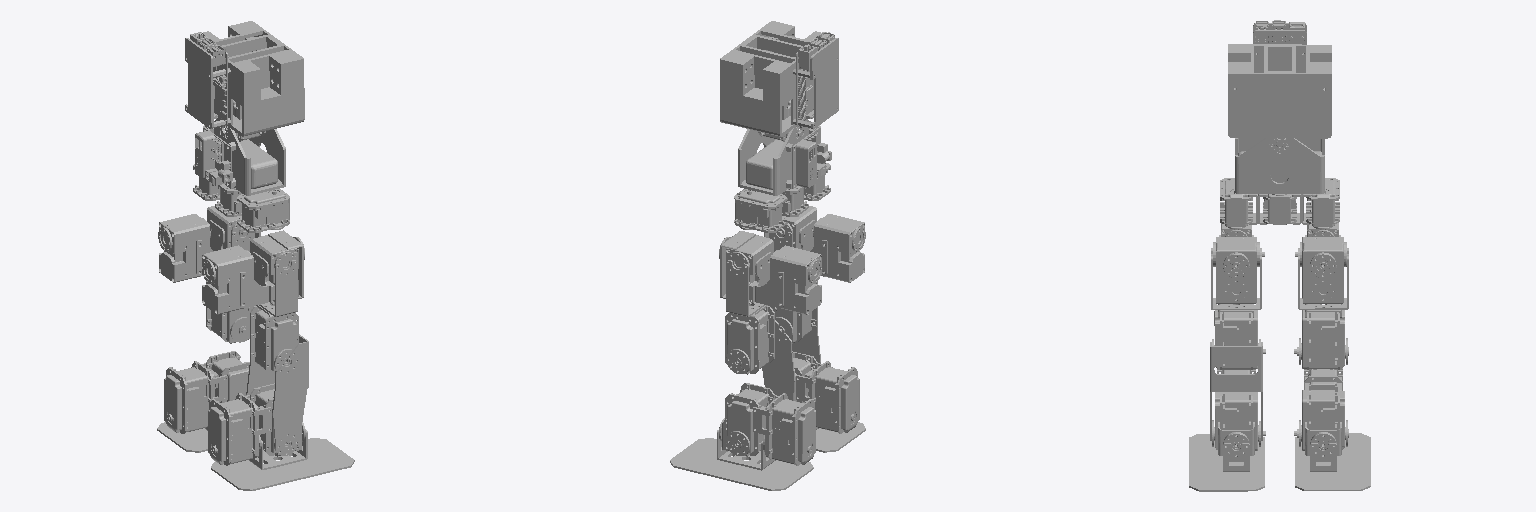
The robot description file, URDF, robot "rosaya":
<?xml version="1.0" encoding="utf-8"?>
<!-- This URDF was automatically created by SolidWorks to URDF Exporter! Originally created by [author] ([email redacted]) 
     Commit Version: 1.6.0-4-g7f85cfe  Build Version: 1.6.7995.38578
     For more information, please see http://wiki.ros.org/sw_urdf_exporter -->
<robot
  name="rosaya">
  <link
    name="Link1">
    <inertial>
      <origin
        xyz="-0.014045 -0.00010244 0.42421"
        rpy="0 0 0" />
      <mass
        value="0.26448" />
      <inertia
        ixx="0.00037715"
        ixy="2.5995E-08"
        ixz="8.269E-06"
        iyy="0.00020603"
        iyz="1.6005E-07"
        izz="0.0003378" />
    </inertial>
    <visual>
      <origin
        xyz="0 0 0"
        rpy="0 0 0" />
      <geometry>
        <mesh
          filename="package://rosaya/meshes/Link1.STL" />
      </geometry>
      <material
        name="">
        <color
          rgba="0.75294 0.75294 0.75294 1" />
      </material>
    </visual>
    <collision>
      <origin
        xyz="0 0 0"
        rpy="0 0 0" />
      <geometry>
        <mesh
          filename="package://rosaya/meshes/Link1.STL" />
      </geometry>
    </collision>
  </link>
  <link
    name="Link2">
    <inertial>
      <origin
        xyz="-0.027516 0.00022504 -0.039853"
        rpy="0 0 0" />
      <mass
        value="0.26676" />
      <inertia
        ixx="0.00020194"
        ixy="-2.026E-07"
        ixz="-2.9245E-07"
        iyy="6.9731E-05"
        iyz="-6.7072E-07"
        izz="0.00020891" />
    </inertial>
    <visual>
      <origin
        xyz="0 0 0"
        rpy="0 0 0" />
      <geometry>
        <mesh
          filename="package://rosaya/meshes/Link2.STL" />
      </geometry>
      <material
        name="">
        <color
          rgba="0.75294 0.75294 0.75294 1" />
      </material>
    </visual>
    <collision>
      <origin
        xyz="0 0 0"
        rpy="0 0 0" />
      <geometry>
        <mesh
          filename="package://rosaya/meshes/Link2.STL" />
      </geometry>
    </collision>
  </link>
  <joint
    name="Joint1"
    type="continuous">
    <origin
      xyz="0.0150416145062784 -0.000145225937100715 0.375282029235617"
      rpy="-0.00310746977134566 0 0" />
    <parent
      link="Link1" />
    <child
      link="Link2" />
    <axis
      xyz="1 0 0" />
  </joint>
  <link
    name="Link3">
    <inertial>
      <origin
        xyz="-0.010804 2.1661E-06 -0.024632"
        rpy="0 0 0" />
      <mass
        value="0.14146" />
      <inertia
        ixx="2.3963E-05"
        ixy="2.9004E-09"
        ixz="1.8274E-07"
        iyy="3.8433E-05"
        iyz="-3.819E-11"
        izz="3.167E-05" />
    </inertial>
    <visual>
      <origin
        xyz="0 0 0"
        rpy="0 0 0" />
      <geometry>
        <mesh
          filename="package://rosaya/meshes/Link3.STL" />
      </geometry>
      <material
        name="">
        <color
          rgba="0.75294 0.75294 0.75294 1" />
      </material>
    </visual>
    <collision>
      <origin
        xyz="0 0 0"
        rpy="0 0 0" />
      <geometry>
        <mesh
          filename="package://rosaya/meshes/Link3.STL" />
      </geometry>
    </collision>
  </link>
  <joint
    name="Joint2"
    type="continuous">
    <origin
      xyz="-0.0150417125919951 0.000171249925764887 -0.0551096819554042"
      rpy="0.00310746977134566 0 0" />
    <parent
      link="Link2" />
    <child
      link="Link3" />
    <axis
      xyz="0 0 1" />
  </joint>
  <link
    name="L_Link">
    <inertial>
      <origin
        xyz="2.5032E-07 7.443E-08 -0.0094973"
        rpy="0 0 0" />
      <mass
        value="0.0062048" />
      <inertia
        ixx="1.1671E-06"
        ixy="2.2413E-14"
        ixz="-1.3175E-11"
        iyy="4.7062E-06"
        iyz="-3.9175E-12"
        izz="4.3674E-06" />
    </inertial>
    <visual>
      <origin
        xyz="0 0 0"
        rpy="0 0 0" />
      <geometry>
        <mesh
          filename="package://rosaya/meshes/L_Link.STL" />
      </geometry>
      <material
        name="">
        <color
          rgba="0.75294 0.75294 0.75294 1" />
      </material>
    </visual>
    <collision>
      <origin
        xyz="0 0 0"
        rpy="0 0 0" />
      <geometry>
        <mesh
          filename="package://rosaya/meshes/L_Link.STL" />
      </geometry>
    </collision>
  </link>
  <joint
    name="Joint3"
    type="continuous">
    <origin
      xyz="0 0.045659264836335 -0.0460755308216049"
      rpy="0 0 -0.000200463315012628" />
    <parent
      link="Link3" />
    <child
      link="L_Link" />
    <axis
      xyz="0 0 1" />
  </joint>
  <link
    name="L_Link1">
    <inertial>
      <origin
        xyz="0.00657352061231821 -0.000309348250411443 -0.0151747345156473"
        rpy="0 0 0" />
      <mass
        value="0.186396401372013" />
      <inertia
        ixx="7.83299289692851E-05"
        ixy="3.05121818869238E-12"
        ixz="-1.9591696072584E-07"
        iyy="7.66988314756653E-05"
        iyz="1.61633318765245E-07"
        izz="4.72447757065841E-05" />
    </inertial>
    <visual>
      <origin
        xyz="0 0 0"
        rpy="0 0 0" />
      <geometry>
        <mesh
          filename="package://rosaya/meshes/L_Link1.STL" />
      </geometry>
      <material
        name="">
        <color
          rgba="0.752941176470588 0.752941176470588 0.752941176470588 1" />
      </material>
    </visual>
    <collision>
      <origin
        xyz="0 0 0"
        rpy="0 0 0" />
      <geometry>
        <mesh
          filename="package://rosaya/meshes/L_Link1.STL" />
      </geometry>
    </collision>
  </link>
  <joint
    name="Joint5"
    type="continuous">
    <origin
      xyz="-0.0317500000000014 0 -0.0339141545469447"
      rpy="0.000537539761406673 0 0" />
    <parent
      link="L_Link" />
    <child
      link="L_Link1" />
    <axis
      xyz="1 0 0" />
  </joint>
  <link
    name="L_Link2">
    <inertial>
      <origin
        xyz="-0.00048595 0.024579 -0.091308"
        rpy="0 0 0" />
      <mass
        value="0.099079" />
      <inertia
        ixx="4.9382E-05"
        ixy="-2.9464E-09"
        ixz="-1.1213E-07"
        iyy="3.6564E-05"
        iyz="-1.0628E-06"
        izz="2.8912E-05" />
    </inertial>
    <visual>
      <origin
        xyz="0 0 0"
        rpy="0 0 0" />
      <geometry>
        <mesh
          filename="package://rosaya/meshes/L_Link2.STL" />
      </geometry>
      <material
        name="">
        <color
          rgba="0.75294 0.75294 0.75294 1" />
      </material>
    </visual>
    <collision>
      <origin
        xyz="0 0 0"
        rpy="0 0 0" />
      <geometry>
        <mesh
          filename="package://rosaya/meshes/L_Link2.STL" />
      </geometry>
    </collision>
  </link>
  <joint
    name="Joint7"
    type="continuous">
    <origin
      xyz="0.0317200000000001 -0.0244999999999996 0"
      rpy="0 0 0" />
    <parent
      link="L_Link1" />
    <child
      link="L_Link2" />
    <axis
      xyz="0 1 0" />
  </joint>
  <link
    name="L_Link3">
    <inertial>
      <origin
        xyz="0.00932898247433369 0.026035398000001 -0.0336820846788216"
        rpy="0 0 0" />
      <mass
        value="0.0193582268613659" />
      <inertia
        ixx="3.00375991900623E-05"
        ixy="1.78199519362299E-20"
        ixz="-4.16144772485329E-06"
        iyy="2.14370365193727E-05"
        iyz="1.96376094083954E-19"
        izz="1.54337749522801E-05" />
    </inertial>
    <visual>
      <origin
        xyz="0 0 0"
        rpy="0 0 0" />
      <geometry>
        <mesh
          filename="package://rosaya/meshes/L_Link3.STL" />
      </geometry>
      <material
        name="">
        <color
          rgba="0.752941176470588 0.752941176470588 0.752941176470588 1" />
      </material>
    </visual>
    <collision>
      <origin
        xyz="0 0 0"
        rpy="0 0 0" />
      <geometry>
        <mesh
          filename="package://rosaya/meshes/L_Link3.STL" />
      </geometry>
    </collision>
  </link>
  <joint
    name="Joint9"
    type="continuous">
    <origin
      xyz="-0.000558037765886032 -0.00140000000000197 -0.112828252884564"
      rpy="0 -0.000303003582677282 0" />
    <parent
      link="L_Link2" />
    <child
      link="L_Link3" />
    <axis
      xyz="0 1 0" />
  </joint>
  <link
    name="L_Link4">
    <inertial>
      <origin
        xyz="-0.022933 0.025987 0.015294"
        rpy="0 0 0" />
      <mass
        value="0.18164" />
      <inertia
        ixx="7.5271E-05"
        ixy="9.7469E-14"
        ixz="1.0704E-06"
        iyy="7.4761E-05"
        iyz="-1.0645E-06"
        izz="4.691E-05" />
    </inertial>
    <visual>
      <origin
        xyz="0 0 0"
        rpy="0 0 0" />
      <geometry>
        <mesh
          filename="package://rosaya/meshes/L_Link4.STL" />
      </geometry>
      <material
        name="">
        <color
          rgba="0.75294 0.75294 0.75294 1" />
      </material>
    </visual>
    <collision>
      <origin
        xyz="0 0 0"
        rpy="0 0 0" />
      <geometry>
        <mesh
          filename="package://rosaya/meshes/L_Link4.STL" />
      </geometry>
    </collision>
  </link>
  <joint
    name="Joint11"
    type="continuous">
    <origin
      xyz="0 0 -0.0949999999999996"
      rpy="0 0.000302748335169453 0" />
    <parent
      link="L_Link3" />
    <child
      link="L_Link4" />
    <axis
      xyz="0 1 0" />
  </joint>
  <link
    name="L_Link5">
    <inertial>
      <origin
        xyz="0.02791 0.0078481 -0.029268"
        rpy="0 0 0" />
      <mass
        value="0.072891" />
      <inertia
        ixx="3.332E-05"
        ixy="-2.7125E-14"
        ixz="8.0736E-16"
        iyy="0.00010263"
        iyz="1.6495E-12"
        izz="0.00013288" />
    </inertial>
    <visual>
      <origin
        xyz="0 0 0"
        rpy="0 0 0" />
      <geometry>
        <mesh
          filename="package://rosaya/meshes/L_Link5.STL" />
      </geometry>
      <material
        name="">
        <color
          rgba="0.75294 0.75294 0.75294 1" />
      </material>
    </visual>
    <collision>
      <origin
        xyz="0 0 0"
        rpy="0 0 0" />
      <geometry>
        <mesh
          filename="package://rosaya/meshes/L_Link5.STL" />
      </geometry>
    </collision>
  </link>
  <joint
    name="Joint13"
    type="continuous">
    <origin
      xyz="-0.0236 0.026 0"
      rpy="0 0 0" />
    <parent
      link="L_Link4" />
    <child
      link="L_Link5" />
    <axis
      xyz="1 0 0" />
  </joint>
  <link
    name="R_Link">
    <inertial>
      <origin
        xyz="2.5032E-07 7.443E-08 -0.0094973"
        rpy="0 0 0" />
      <mass
        value="0.0062048" />
      <inertia
        ixx="1.1671E-06"
        ixy="2.2413E-14"
        ixz="-1.3175E-11"
        iyy="4.7062E-06"
        iyz="-3.9175E-12"
        izz="4.3674E-06" />
    </inertial>
    <visual>
      <origin
        xyz="0 0 0"
        rpy="0 0 0" />
      <geometry>
        <mesh
          filename="package://rosaya/meshes/R_Link.STL" />
      </geometry>
      <material
        name="">
        <color
          rgba="0.75294 0.75294 0.75294 1" />
      </material>
    </visual>
    <collision>
      <origin
        xyz="0 0 0"
        rpy="0 0 0" />
      <geometry>
        <mesh
          filename="package://rosaya/meshes/R_Link.STL" />
      </geometry>
    </collision>
  </link>
  <joint
    name="Joint4"
    type="continuous">
    <origin
      xyz="0 -0.0456592648363355 -0.0460755308216101"
      rpy="0 0 -0.000200463315012628" />
    <parent
      link="Link3" />
    <child
      link="R_Link" />
    <axis
      xyz="0 0 1" />
  </joint>
  <link
    name="R_Link1">
    <inertial>
      <origin
        xyz="0.0065753 0.00030936 -0.015175"
        rpy="0 0 0" />
      <mass
        value="0.1864" />
      <inertia
        ixx="7.833E-05"
        ixy="3.0512E-12"
        ixz="-1.9592E-07"
        iyy="7.6699E-05"
        iyz="-1.6213E-07"
        izz="4.7245E-05" />
    </inertial>
    <visual>
      <origin
        xyz="0 0 0"
        rpy="0 0 0" />
      <geometry>
        <mesh
          filename="package://rosaya/meshes/R_Link1.STL" />
      </geometry>
      <material
        name="">
        <color
          rgba="0.75294 0.75294 0.75294 1" />
      </material>
    </visual>
    <collision>
      <origin
        xyz="0 0 0"
        rpy="0 0 0" />
      <geometry>
        <mesh
          filename="package://rosaya/meshes/R_Link1.STL" />
      </geometry>
    </collision>
  </link>
  <joint
    name="Joint6"
    type="continuous">
    <origin
      xyz="-0.0317499999999999 0 -0.0339141545469453"
      rpy="0.000537539765574113 0 0" />
    <parent
      link="R_Link" />
    <child
      link="R_Link1" />
    <axis
      xyz="1 0 0" />
  </joint>
  <link
    name="R_Link2">
    <inertial>
      <origin
        xyz="-2.8011E-05 -0.024579 -0.09126"
        rpy="0 0 0" />
      <mass
        value="0.099079" />
      <inertia
        ixx="4.9383E-05"
        ixy="2.3102E-09"
        ixz="-7.6028E-09"
        iyy="3.6564E-05"
        iyz="1.0628E-06"
        izz="2.8911E-05" />
    </inertial>
    <visual>
      <origin
        xyz="0 0 0"
        rpy="0 0 0" />
      <geometry>
        <mesh
          filename="package://rosaya/meshes/R_Link2.STL" />
      </geometry>
      <material
        name="">
        <color
          rgba="0.75294 0.75294 0.75294 1" />
      </material>
    </visual>
    <collision>
      <origin
        xyz="0 0 0"
        rpy="0 0 0" />
      <geometry>
        <mesh
          filename="package://rosaya/meshes/R_Link2.STL" />
      </geometry>
    </collision>
  </link>
  <joint
    name="Joint8"
    type="continuous">
    <origin
      xyz="0.031720000000165 0.0245000000000003 -4.90873395437297E-05"
      rpy="0 0 0" />
    <parent
      link="R_Link1" />
    <child
      link="R_Link2" />
    <axis
      xyz="0 1 0" />
  </joint>
  <link
    name="R_Link3">
    <inertial>
      <origin
        xyz="0.009329 -0.026035 -0.033682"
        rpy="0 0 0" />
      <mass
        value="0.019358" />
      <inertia
        ixx="3.0038E-05"
        ixy="-2.727E-20"
        ixz="-4.1614E-06"
        iyy="2.1437E-05"
        iyz="1.9102E-19"
        izz="1.5434E-05" />
    </inertial>
    <visual>
      <origin
        xyz="0 0 0"
        rpy="0 0 0" />
      <geometry>
        <mesh
          filename="package://rosaya/meshes/R_Link3.STL" />
      </geometry>
      <material
        name="">
        <color
          rgba="0.75294 0.75294 0.75294 1" />
      </material>
    </visual>
    <collision>
      <origin
        xyz="0 0 0"
        rpy="0 0 0" />
      <geometry>
        <mesh
          filename="package://rosaya/meshes/R_Link3.STL" />
      </geometry>
    </collision>
  </link>
  <joint
    name="Joint10"
    type="continuous">
    <origin
      xyz="0 0.0014000000000008 -0.11278054553733"
      rpy="0 0 0" />
    <parent
      link="R_Link2" />
    <child
      link="R_Link3" />
    <axis
      xyz="0 1 0" />
  </joint>
  <link
    name="R_Link4">
    <inertial>
      <origin
        xyz="-0.02293 -0.02599 0.015294"
        rpy="0 0 0" />
      <mass
        value="0.18164" />
      <inertia
        ixx="7.5271E-05"
        ixy="9.7469E-14"
        ixz="1.0737E-06"
        iyy="7.4761E-05"
        iyz="1.0612E-06"
        izz="4.691E-05" />
    </inertial>
    <visual>
      <origin
        xyz="0 0 0"
        rpy="0 0 0" />
      <geometry>
        <mesh
          filename="package://rosaya/meshes/R_Link4.STL" />
      </geometry>
      <material
        name="">
        <color
          rgba="0.75294 0.75294 0.75294 1" />
      </material>
    </visual>
    <collision>
      <origin
        xyz="0 0 0"
        rpy="0 0 0" />
      <geometry>
        <mesh
          filename="package://rosaya/meshes/R_Link4.STL" />
      </geometry>
    </collision>
  </link>
  <joint
    name="Joint12"
    type="continuous">
    <origin
      xyz="0 0 -0.0949999999999999"
      rpy="0 0 0" />
    <parent
      link="R_Link3" />
    <child
      link="R_Link4" />
    <axis
      xyz="0 1 0" />
  </joint>
  <link
    name="R_Link5">
    <inertial>
      <origin
        xyz="0.02791 -0.0078481 -0.029268"
        rpy="0 0 0" />
      <mass
        value="0.072891" />
      <inertia
        ixx="3.332E-05"
        ixy="-2.7124E-14"
        ixz="8.0731E-16"
        iyy="0.00010263"
        iyz="1.6495E-12"
        izz="0.00013288" />
    </inertial>
    <visual>
      <origin
        xyz="0 0 0"
        rpy="0 0 0" />
      <geometry>
        <mesh
          filename="package://rosaya/meshes/R_Link5.STL" />
      </geometry>
      <material
        name="">
        <color
          rgba="0.75294 0.75294 0.75294 1" />
      </material>
    </visual>
    <collision>
      <origin
        xyz="0 0 0"
        rpy="0 0 0" />
      <geometry>
        <mesh
          filename="package://rosaya/meshes/R_Link5.STL" />
      </geometry>
    </collision>
  </link>
  <joint
    name="Joint14"
    type="continuous">
    <origin
      xyz="-0.0235999999999946 -0.0260000000000017 0"
      rpy="0 0 0" />
    <parent
      link="R_Link4" />
    <child
      link="R_Link5" />
    <axis
      xyz="1 0 0" />
  </joint>
</robot>

--- What the picture shows (computed from the rendered views, not written in the file) ---
Views: 3 orthographic renders of the robot side by side, from view 1: azimuth 30°, elevation 25°; view 2: azimuth 150°, elevation 25°; view 3: azimuth 270°, elevation 25°.
Model rosaya with 15 links and 14 joints (14 continuous), rooted at Link1, posed all joints at 0.
Links seen in each view (by area): view 1: Link1, R_Link1, Link2, R_Link4, L_Link4, L_Link1, R_Link5, R_Link2, R_Link3, Link3, L_Link2, L_Link5; view 2: Link1, L_Link4, L_Link1, Link2, L_Link2, R_Link1, L_Link5, R_Link4, Link3, R_Link3, R_Link2, R_Link5; view 3: Link1, Link2, Link3, R_Link5, L_Link5, L_Link4, L_Link1, L_Link2, R_Link1, R_Link4, R_Link2, R_Link3.
Link boxes in pixels (x1,y1,x2,y2): Link1: (185, 21, 304, 141); R_Link1: (202, 230, 304, 314); Link2: (195, 119, 285, 195); R_Link4: (208, 383, 305, 465); L_Link4: (164, 351, 249, 433); L_Link1: (158, 206, 260, 282); R_Link5: (211, 429, 354, 490); R_Link2: (248, 260, 298, 373); R_Link3: (246, 334, 308, 449); Link3: (193, 164, 289, 232); L_Link2: (204, 232, 254, 343); L_Link5: (157, 422, 207, 452); Link1: (720, 21, 838, 141); L_Link4: (719, 383, 815, 465); L_Link1: (719, 231, 821, 314); Link2: (738, 119, 831, 195); L_Link2: (725, 260, 776, 374); R_Link1: (764, 206, 865, 282); L_Link5: (670, 430, 813, 490); R_Link4: (792, 351, 859, 433); Link3: (734, 162, 830, 232); R_Link3: (762, 320, 820, 400); R_Link2: (769, 232, 817, 343); R_Link5: (816, 422, 865, 452); Link1: (1228, 20, 1331, 150); Link2: (1235, 138, 1324, 193); Link3: (1220, 178, 1339, 229); R_Link5: (1189, 434, 1264, 491); L_Link5: (1295, 433, 1370, 490); L_Link4: (1294, 368, 1348, 455); L_Link1: (1295, 223, 1346, 303); L_Link2: (1294, 248, 1348, 369); R_Link1: (1213, 223, 1264, 303); R_Link4: (1212, 368, 1265, 455); R_Link2: (1211, 248, 1265, 369); R_Link3: (1210, 342, 1262, 440).
Size in the robot's own frame: 0.155 by 0.1908 by 0.4824 metres.
12 mesh visuals loaded from 15 distinct referenced files (12 binary STL); not drawn: 3 (reference not matched to a file when rendering).
